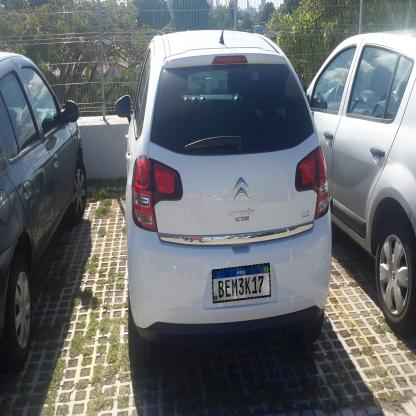PlacaM: (212, 263, 271, 303)
